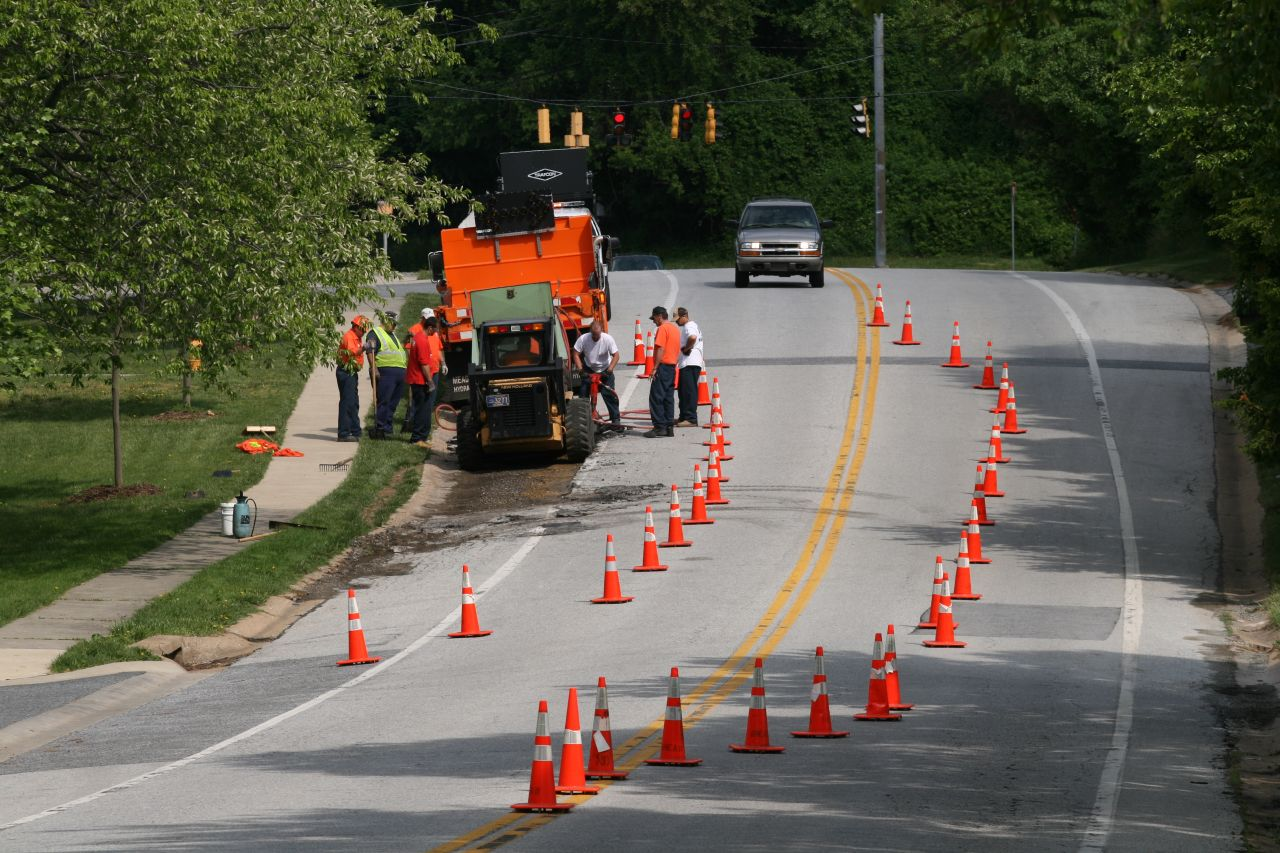cone: (515, 698, 570, 816), (644, 666, 703, 766), (543, 689, 596, 794), (792, 644, 851, 737), (728, 658, 784, 753), (575, 674, 625, 779), (853, 632, 902, 722), (869, 623, 911, 709), (337, 588, 381, 666), (448, 564, 494, 638), (924, 572, 967, 648), (918, 553, 960, 628), (591, 535, 635, 602), (955, 497, 991, 562), (949, 528, 981, 601), (634, 503, 668, 571), (659, 482, 693, 547), (681, 462, 716, 523), (963, 463, 996, 525), (978, 437, 1010, 495), (979, 409, 1013, 462), (701, 442, 728, 504), (705, 398, 731, 459), (973, 339, 1004, 390), (990, 362, 1021, 412), (996, 381, 1025, 434), (940, 319, 972, 367), (701, 423, 727, 481), (893, 297, 923, 345), (702, 377, 729, 428), (626, 317, 653, 367), (637, 331, 664, 379), (868, 281, 893, 327)
